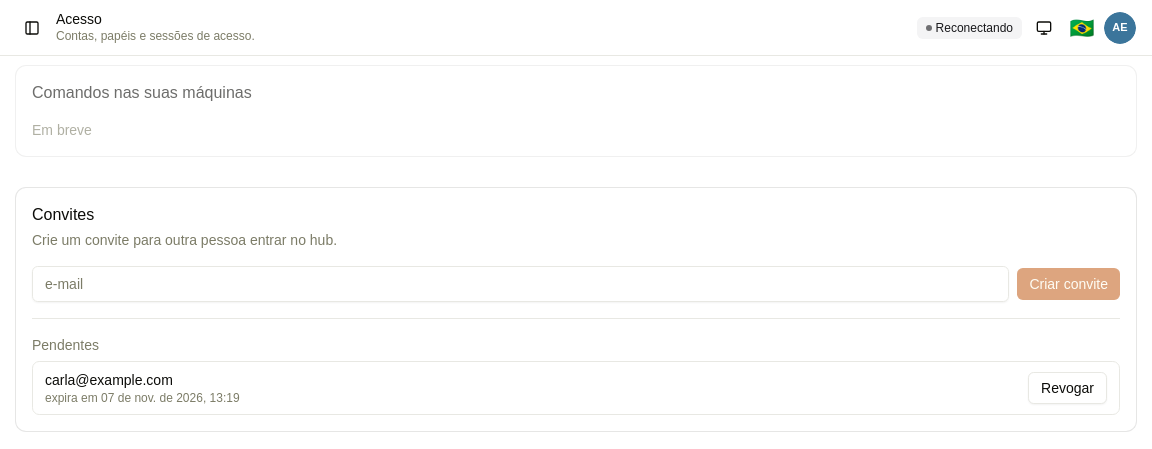
Test case: access: invites › revokes a pending invite
The width and height of the screenshot is (1152, 449).
(page scrolled)
Expected: the heading "Convites" is shown, [32,206,94,223]
Expected: the text "carla@example.com" is shown, [45,372,173,388]
Click the button "Revogar" at (1068, 388), box [1028,372,1107,404]
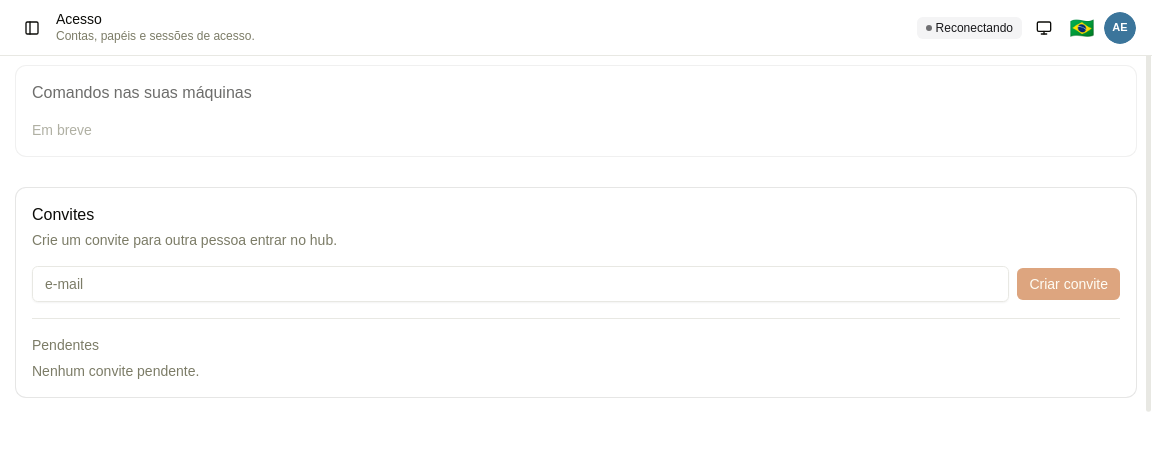
Expected: the text "carla@example.com" is gone
